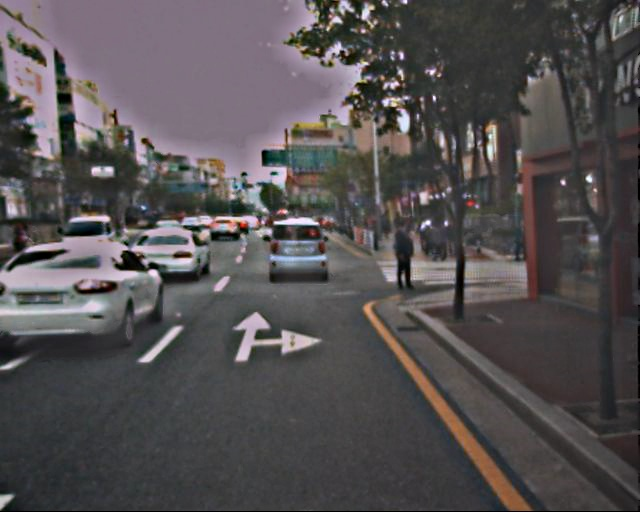person: (389, 219, 419, 291), (420, 218, 454, 256), (512, 217, 531, 263)
